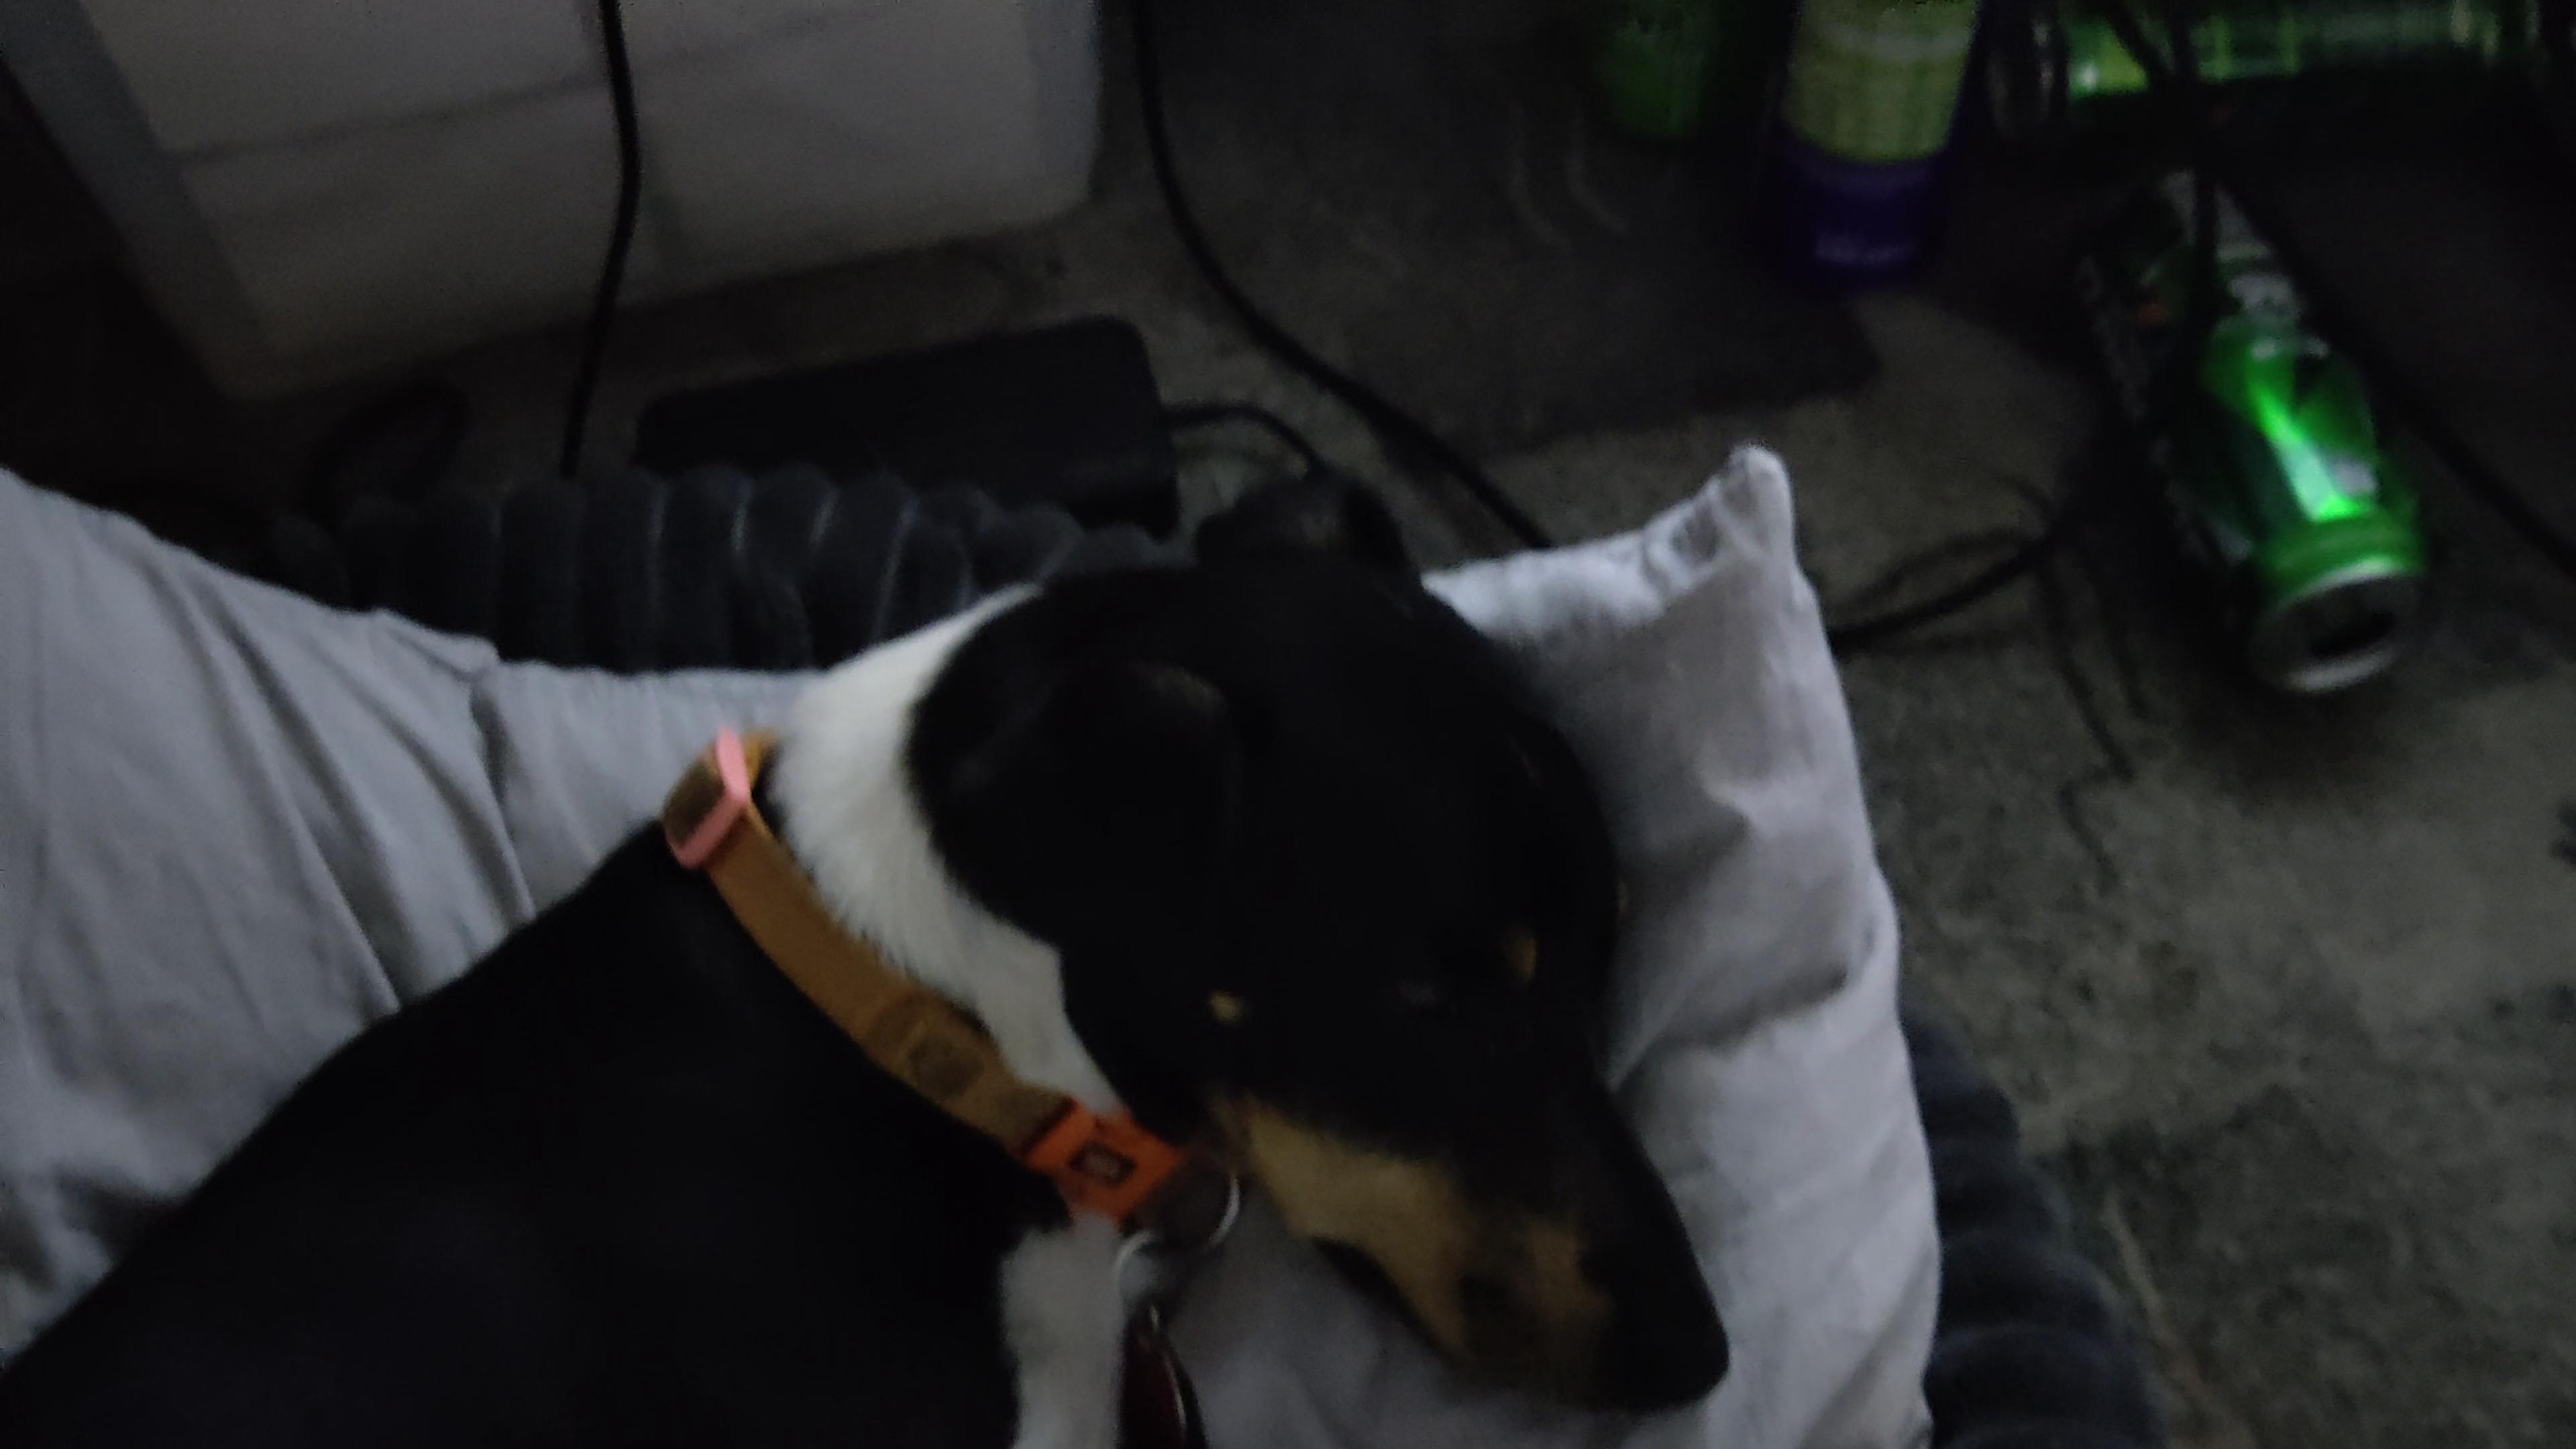Dog: (0, 437, 1767, 1449)
